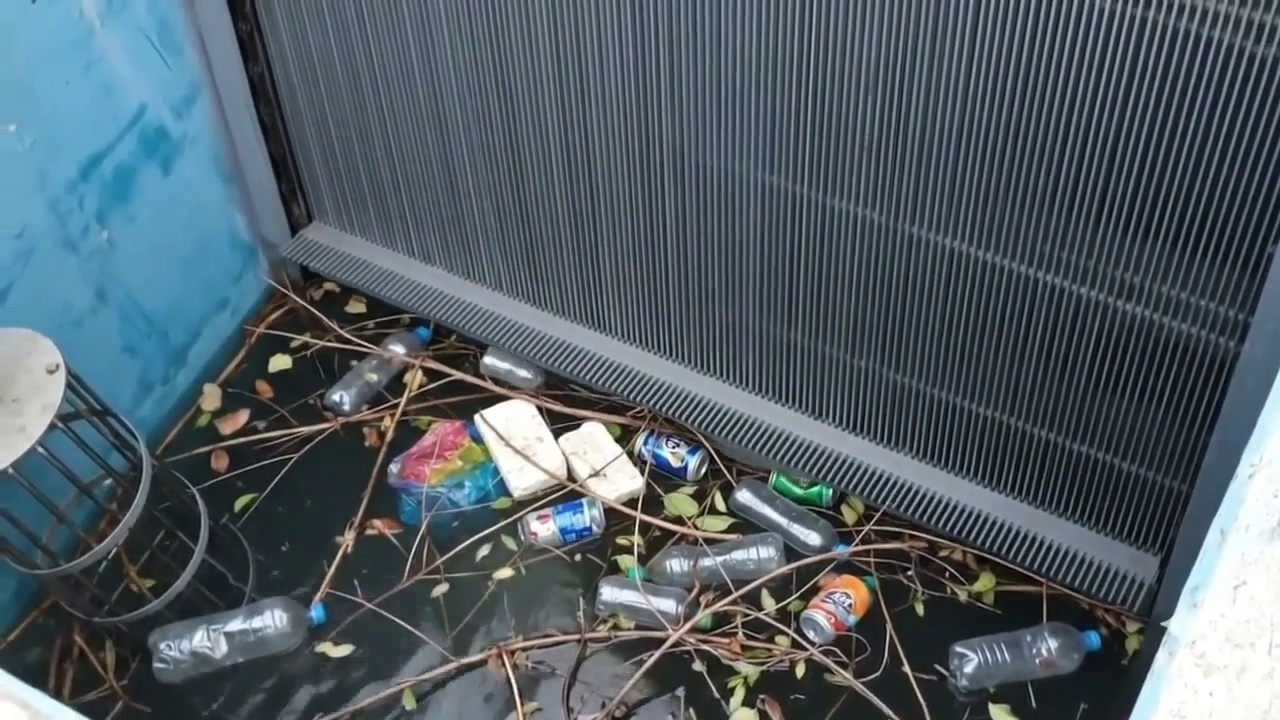debris: (342, 389, 1039, 718), (147, 597, 324, 683), (324, 298, 433, 416), (387, 420, 508, 525), (948, 622, 1100, 691), (728, 479, 838, 554), (798, 574, 876, 644), (519, 497, 604, 546), (631, 429, 709, 482), (479, 347, 544, 389), (768, 470, 837, 507), (213, 408, 250, 436), (198, 383, 222, 412), (232, 493, 258, 513), (266, 353, 292, 373), (209, 448, 229, 474), (254, 378, 274, 399), (344, 296, 367, 314)
